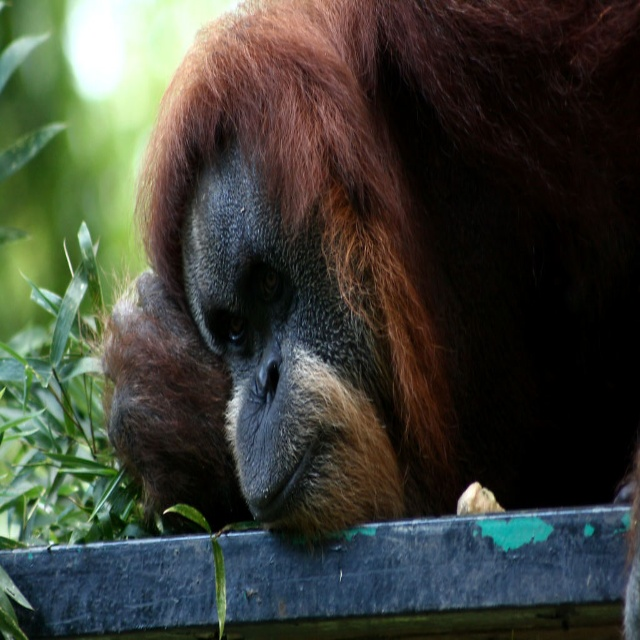Monkey: (115, 0, 580, 568)
